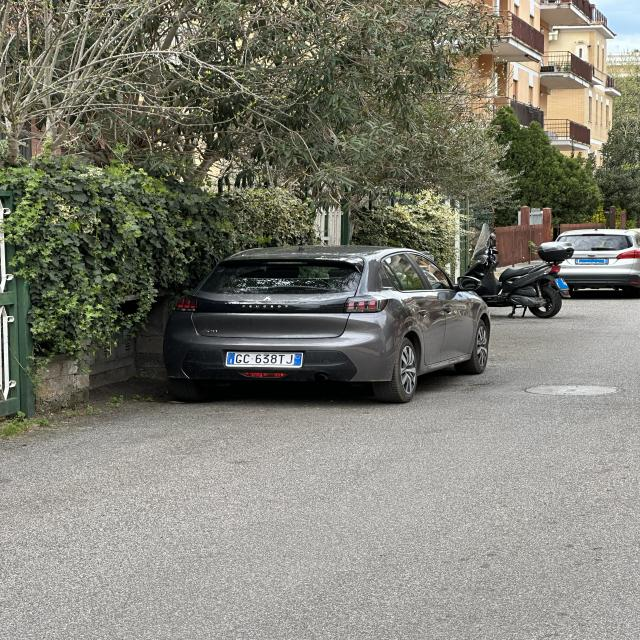number_plate: (226, 352, 302, 368)
